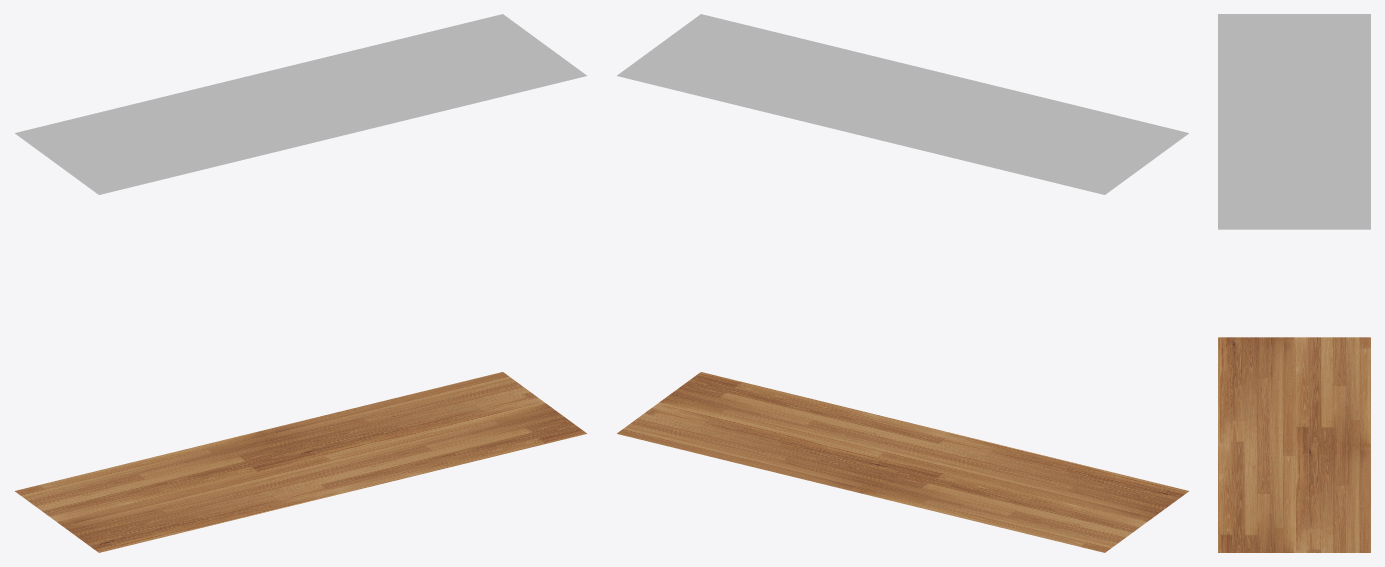
Rendered from HallwayFloor.fbx.
The picture shows the model from 3 angles, left to right: view 1: azimuth 30°, elevation 25°; view 2: azimuth 150°, elevation 25°; view 3: azimuth 270°, elevation 25°; orthographic projection. The views are drawn at different scales.
Visible parts, largest first — view 1: Cube.008; view 2: Cube.008; view 3: Cube.008.
Boxes of the visible parts, x1,y1,x2,y2 form: Cube.008: (15,14,586,552); Cube.008: (617,14,1188,552); Cube.008: (1218,14,1370,552).
Bounding box in the file's own units: 200 × 140 × 60.
